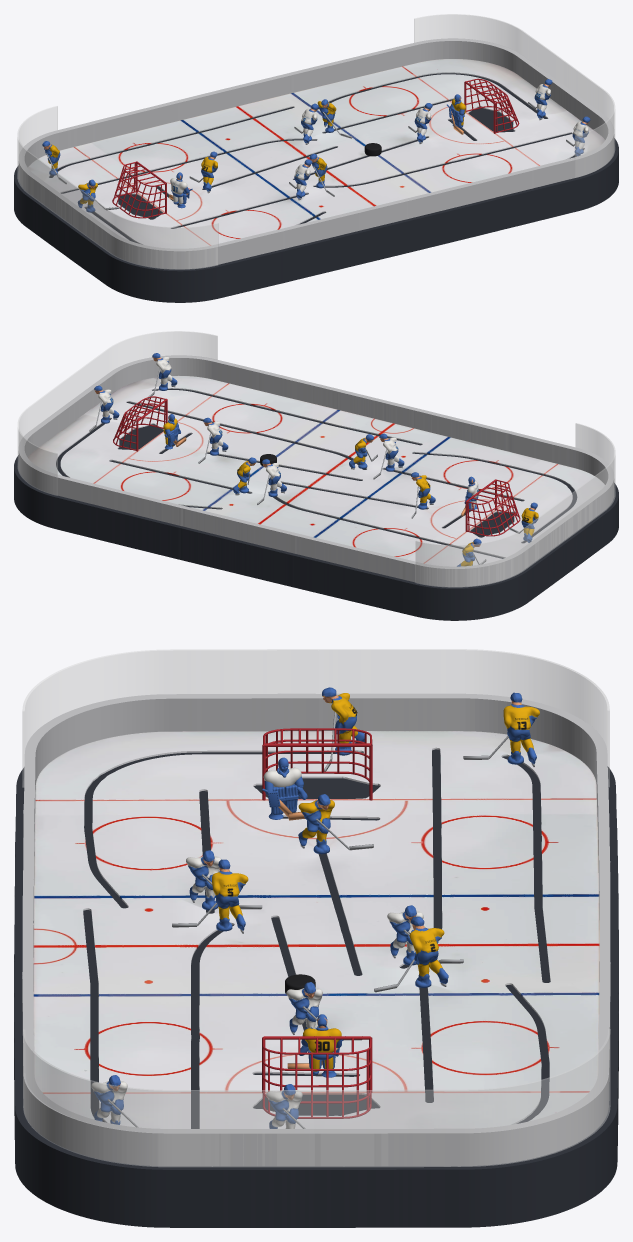
The picture shows the model from 3 angles, top to bottom: view 1: azimuth 30°, elevation 25°; view 2: azimuth 150°, elevation 25°; view 3: azimuth 270°, elevation 25°; orthographic projection. The views are drawn at different scales.
Parts seen in each view (by area): view 1: Ice, InnerBoards, HousingBase, EndScreen.W, EndScreen.E, HousingRim, Skater.FIN (×5), Skater.SWE (×3), Goal.W, Goal.E, Goalie.FIN, Goalie.SWE; view 2: Ice, InnerBoards, HousingBase, EndScreen.W, EndScreen.E, Skater.FIN (×5), HousingRim, Skater.SWE (×4), Goal.W, Goal.E, Goalie.SWE; view 3: Ice, HousingBase, InnerBoards, EndScreen.E, EndScreen.W, HousingRim, Skater.SWE (×5), Skater.FIN (×5), Goal.E, Goal.W, Goalie.FIN, Goalie.SWE.
Boxes of the visible parts, bbox=[...] form: Ice: bbox=[28, 59, 604, 248]; InnerBoards: bbox=[18, 38, 614, 269]; HousingBase: bbox=[14, 73, 618, 302]; EndScreen.W: bbox=[17, 106, 218, 269]; EndScreen.E: bbox=[414, 14, 614, 177]; HousingRim: bbox=[14, 138, 618, 271]; Skater.FIN (×5): bbox=[289, 79, 590, 200]; Skater.SWE (×3): bbox=[78, 99, 352, 212]; Goal.W: bbox=[112, 161, 166, 218]; Goal.E: bbox=[464, 78, 519, 133]; Goalie.FIN: bbox=[169, 172, 192, 208]; Goalie.SWE: bbox=[447, 94, 465, 134]; Ice: bbox=[28, 375, 604, 566]; InnerBoards: bbox=[18, 355, 614, 586]; HousingBase: bbox=[14, 388, 618, 620]; EndScreen.W: bbox=[415, 423, 615, 587]; EndScreen.E: bbox=[17, 331, 217, 495]; Skater.FIN (×5): bbox=[89, 353, 404, 504]; HousingRim: bbox=[14, 455, 618, 589]; Skater.SWE (×4): bbox=[233, 434, 538, 542]; Goal.W: bbox=[465, 479, 520, 536]; Goal.E: bbox=[113, 396, 167, 451]; Goalie.SWE: bbox=[163, 414, 186, 449]; Ice: bbox=[33, 731, 599, 1128]; HousingBase: bbox=[14, 749, 618, 1227]; InnerBoards: bbox=[22, 693, 610, 1166]; EndScreen.E: bbox=[23, 1029, 610, 1166]; EndScreen.W: bbox=[22, 649, 609, 787]; HousingRim: bbox=[14, 766, 618, 1171]; Skater.SWE (×5): bbox=[172, 687, 539, 992]; Skater.FIN (×5): bbox=[91, 850, 463, 1128]; Goal.E: bbox=[262, 1036, 372, 1118]; Goal.W: bbox=[262, 728, 372, 800]; Goalie.FIN: bbox=[262, 757, 307, 820]; Goalie.SWE: bbox=[287, 1014, 345, 1077].
Bounding box in the file's own units: 0.8774 × 0.123 × 0.5019.
Materials: 25 (13 with a texture image).
